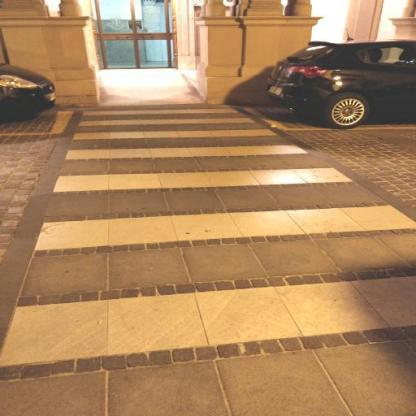crosswalk: (0, 202, 416, 385), (41, 140, 364, 195)
